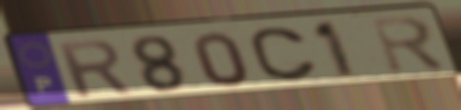0: (189, 28, 254, 89)
1: (311, 19, 359, 81)
8: (125, 33, 189, 94)
C: (246, 26, 321, 84)
R: (368, 14, 452, 77), (52, 38, 136, 100)
